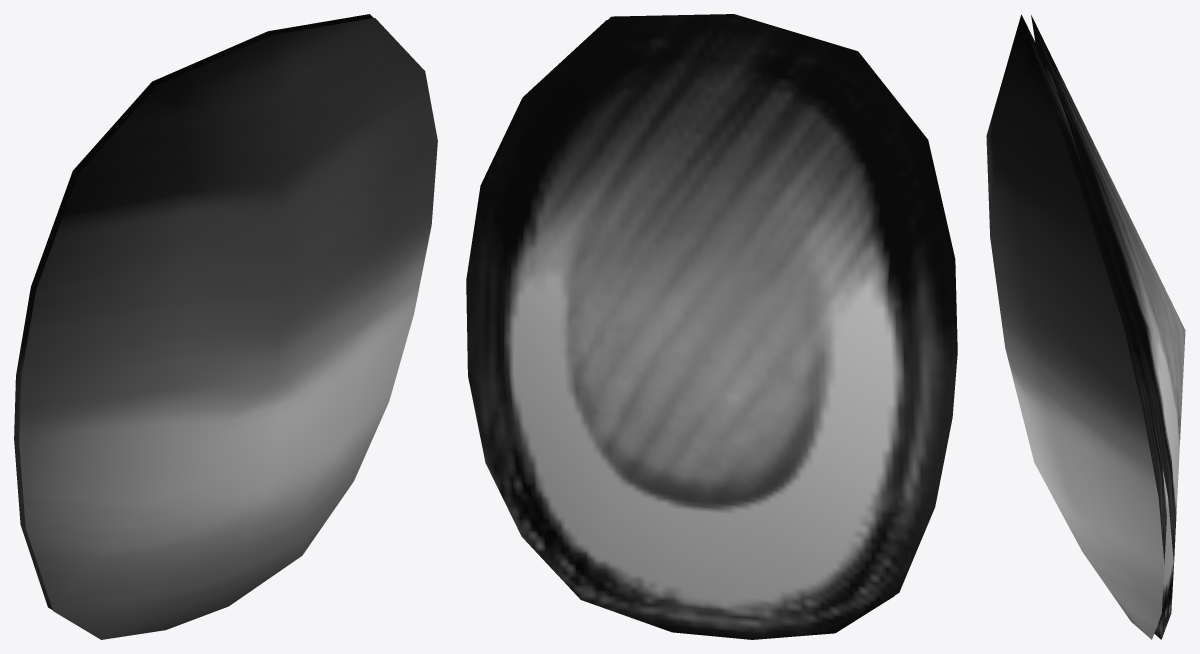
The model's file is mesh_Eye2_L.fbx.
The picture shows the model from 3 angles, left to right: view 1: azimuth 30°, elevation 25°; view 2: azimuth 150°, elevation 25°; view 3: azimuth 270°, elevation 25°; orthographic projection. The views are drawn at different scales.
Parts seen in each view (by area): view 1: mesh_Eye2_L_Cover, mesh_Eye2_L_back; view 2: mesh_Eye2_L_back, mesh_Eye2_L; view 3: mesh_Eye2_L_Cover, mesh_Eye2_L_back, mesh_Eye2_L.
Boxes of the visible parts, box(x1,y1,x2,y2) form: mesh_Eye2_L_Cover: box(19, 18, 437, 639); mesh_Eye2_L_back: box(14, 14, 373, 609); mesh_Eye2_L_back: box(466, 17, 952, 639); mesh_Eye2_L: box(608, 14, 957, 594); mesh_Eye2_L_Cover: box(986, 14, 1164, 639); mesh_Eye2_L_back: box(1031, 15, 1185, 639); mesh_Eye2_L: box(1022, 16, 1167, 564).
Bounding box in the file's own units: 5.17 × 6.55 × 2.1.
